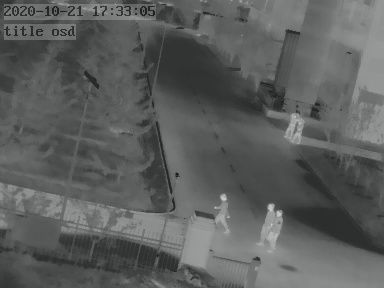person: (214, 192, 231, 236), (259, 203, 274, 245), (271, 208, 284, 250), (286, 113, 297, 138), (294, 117, 304, 143)
